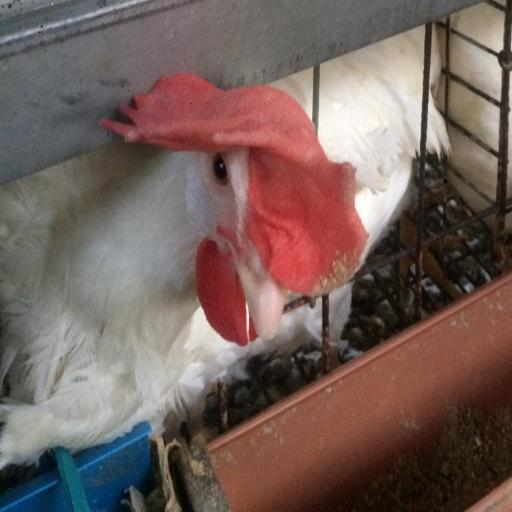healthy: (163, 75, 299, 299)
